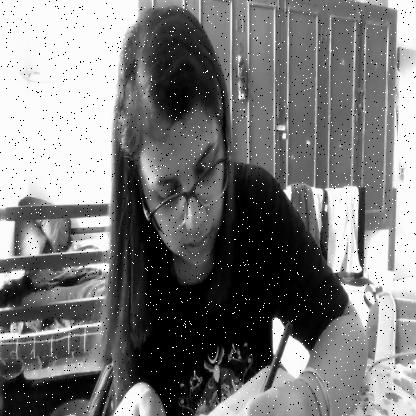Distracted: (118, 2, 226, 281)
